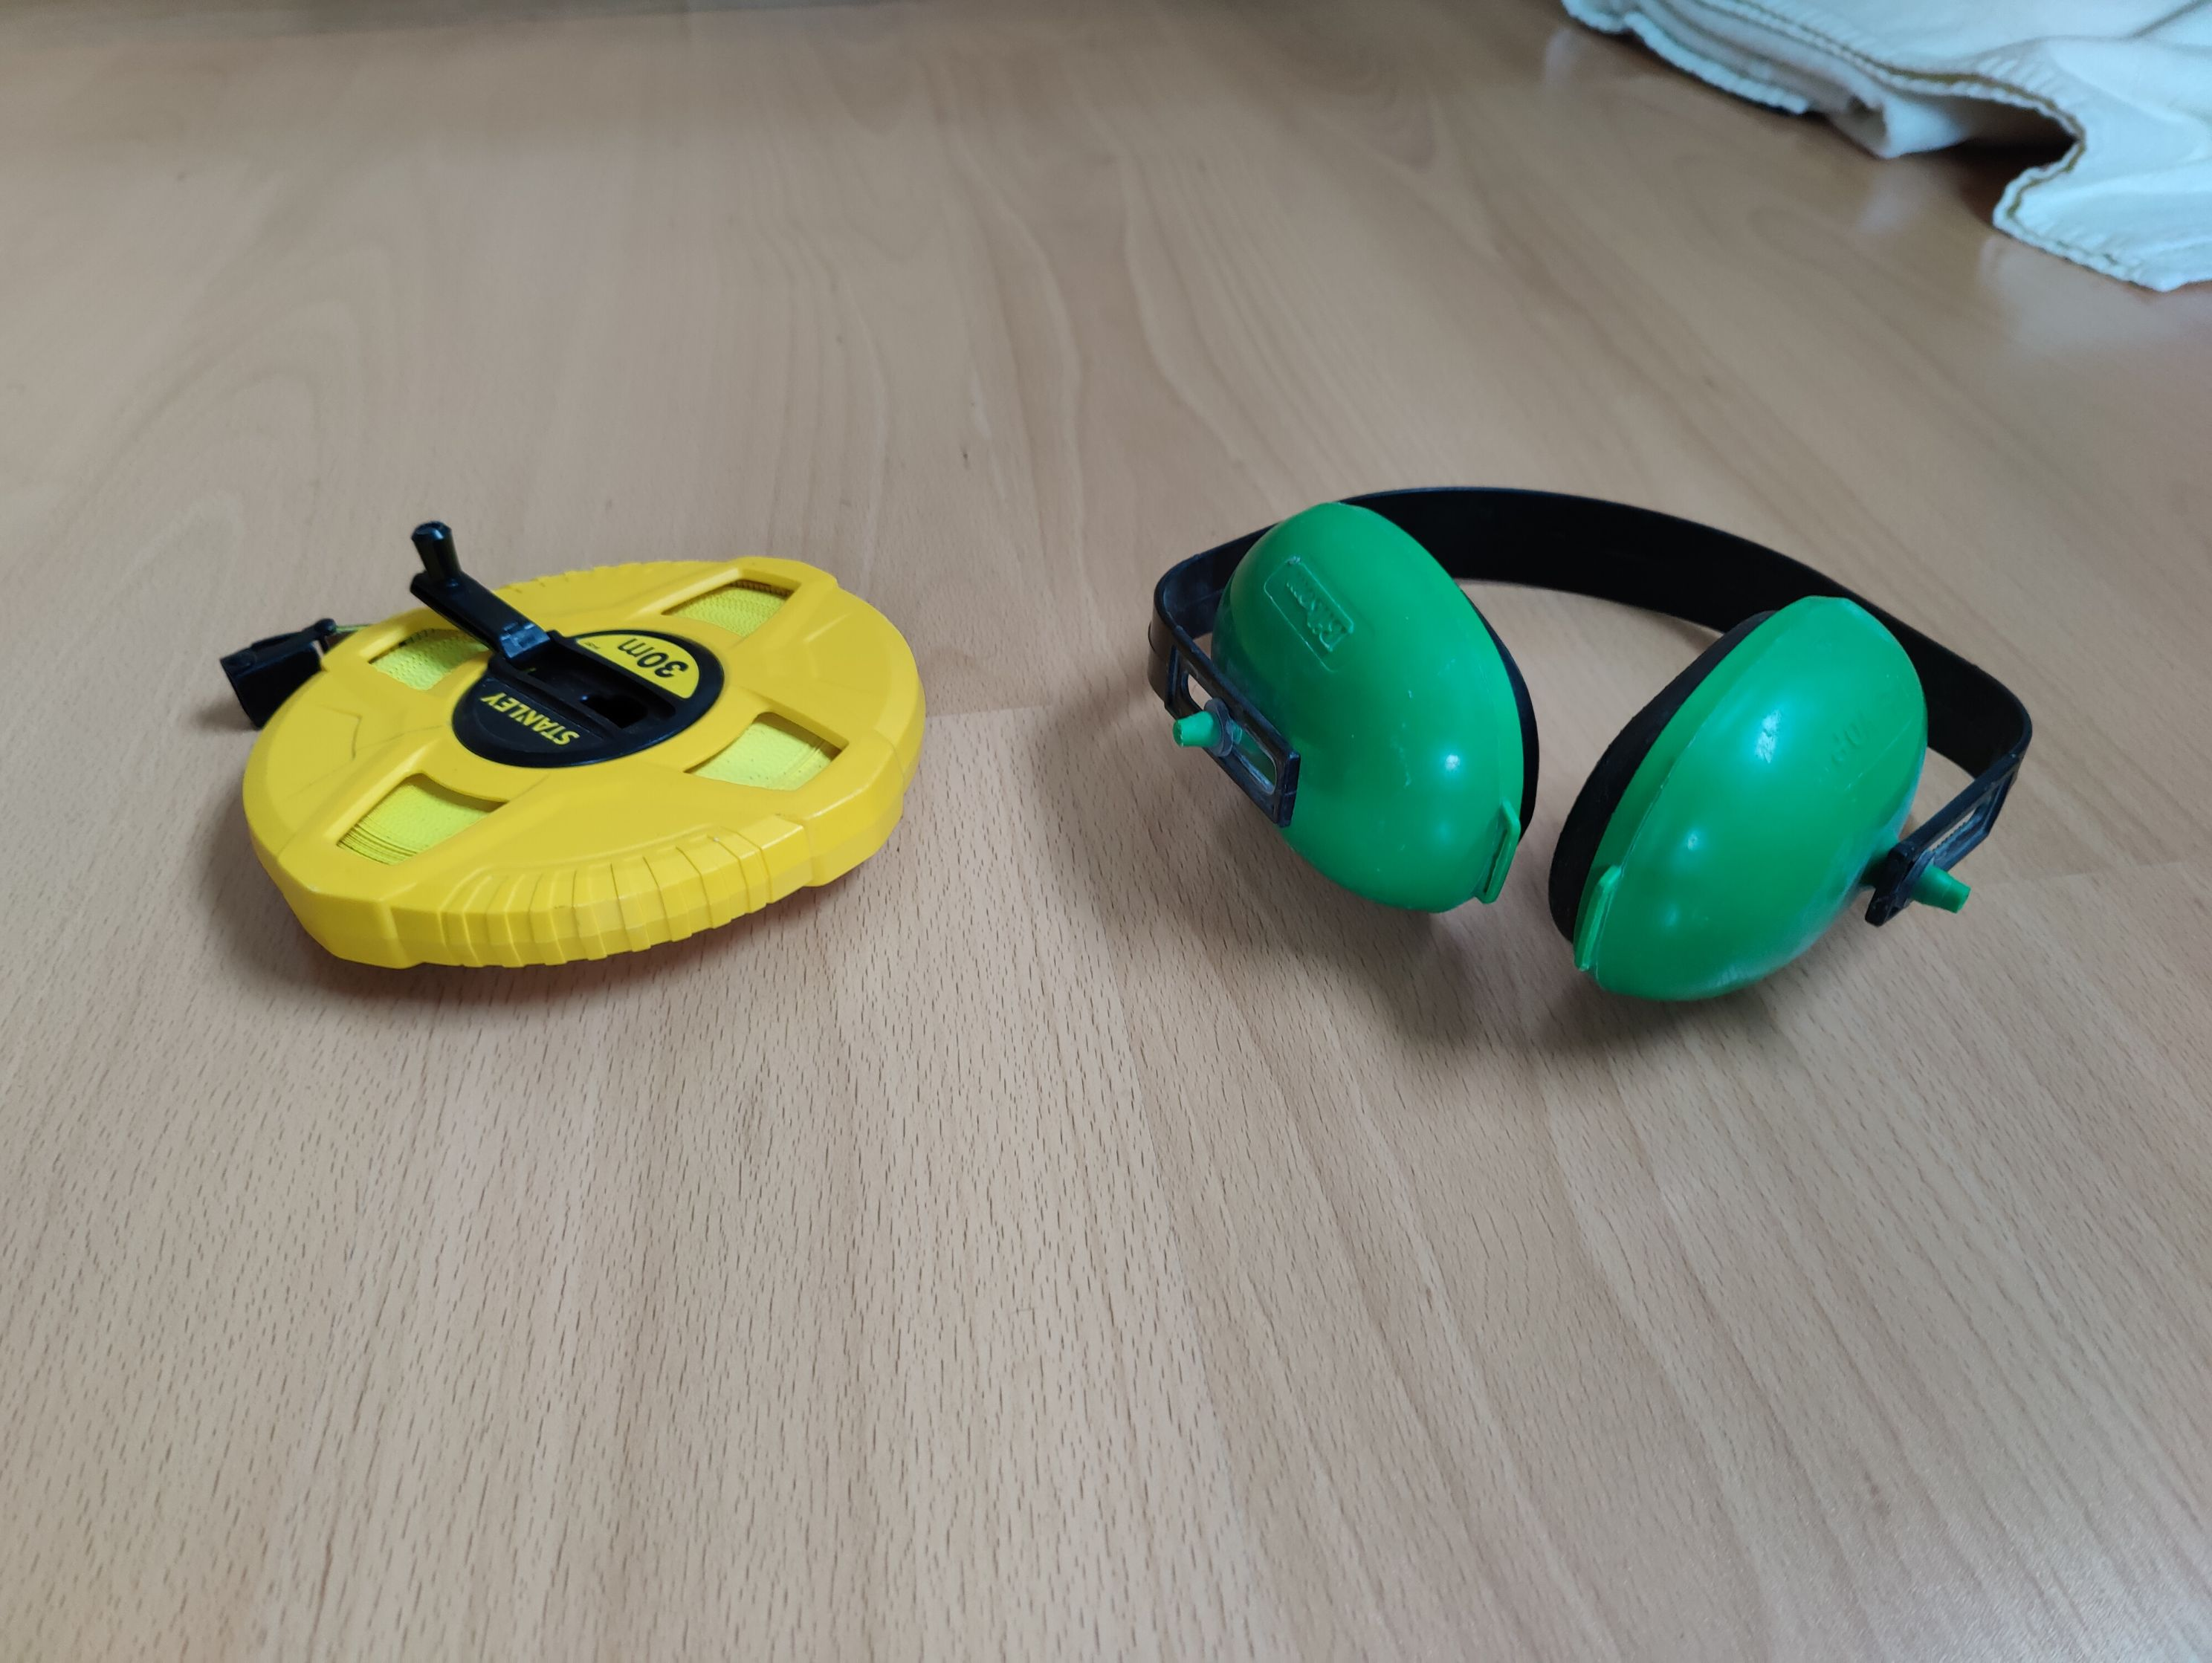headphones: (1146, 479, 2034, 999)
tapemeasure: (217, 515, 926, 980)
